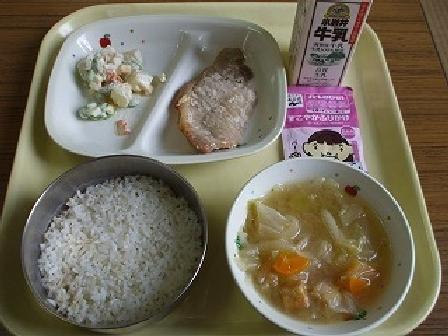Fish: (171, 48, 271, 151)
Milk: (281, 0, 377, 95)
Rice: (23, 163, 208, 315)
Salad: (76, 33, 149, 134)
Soups: (237, 165, 414, 326)
